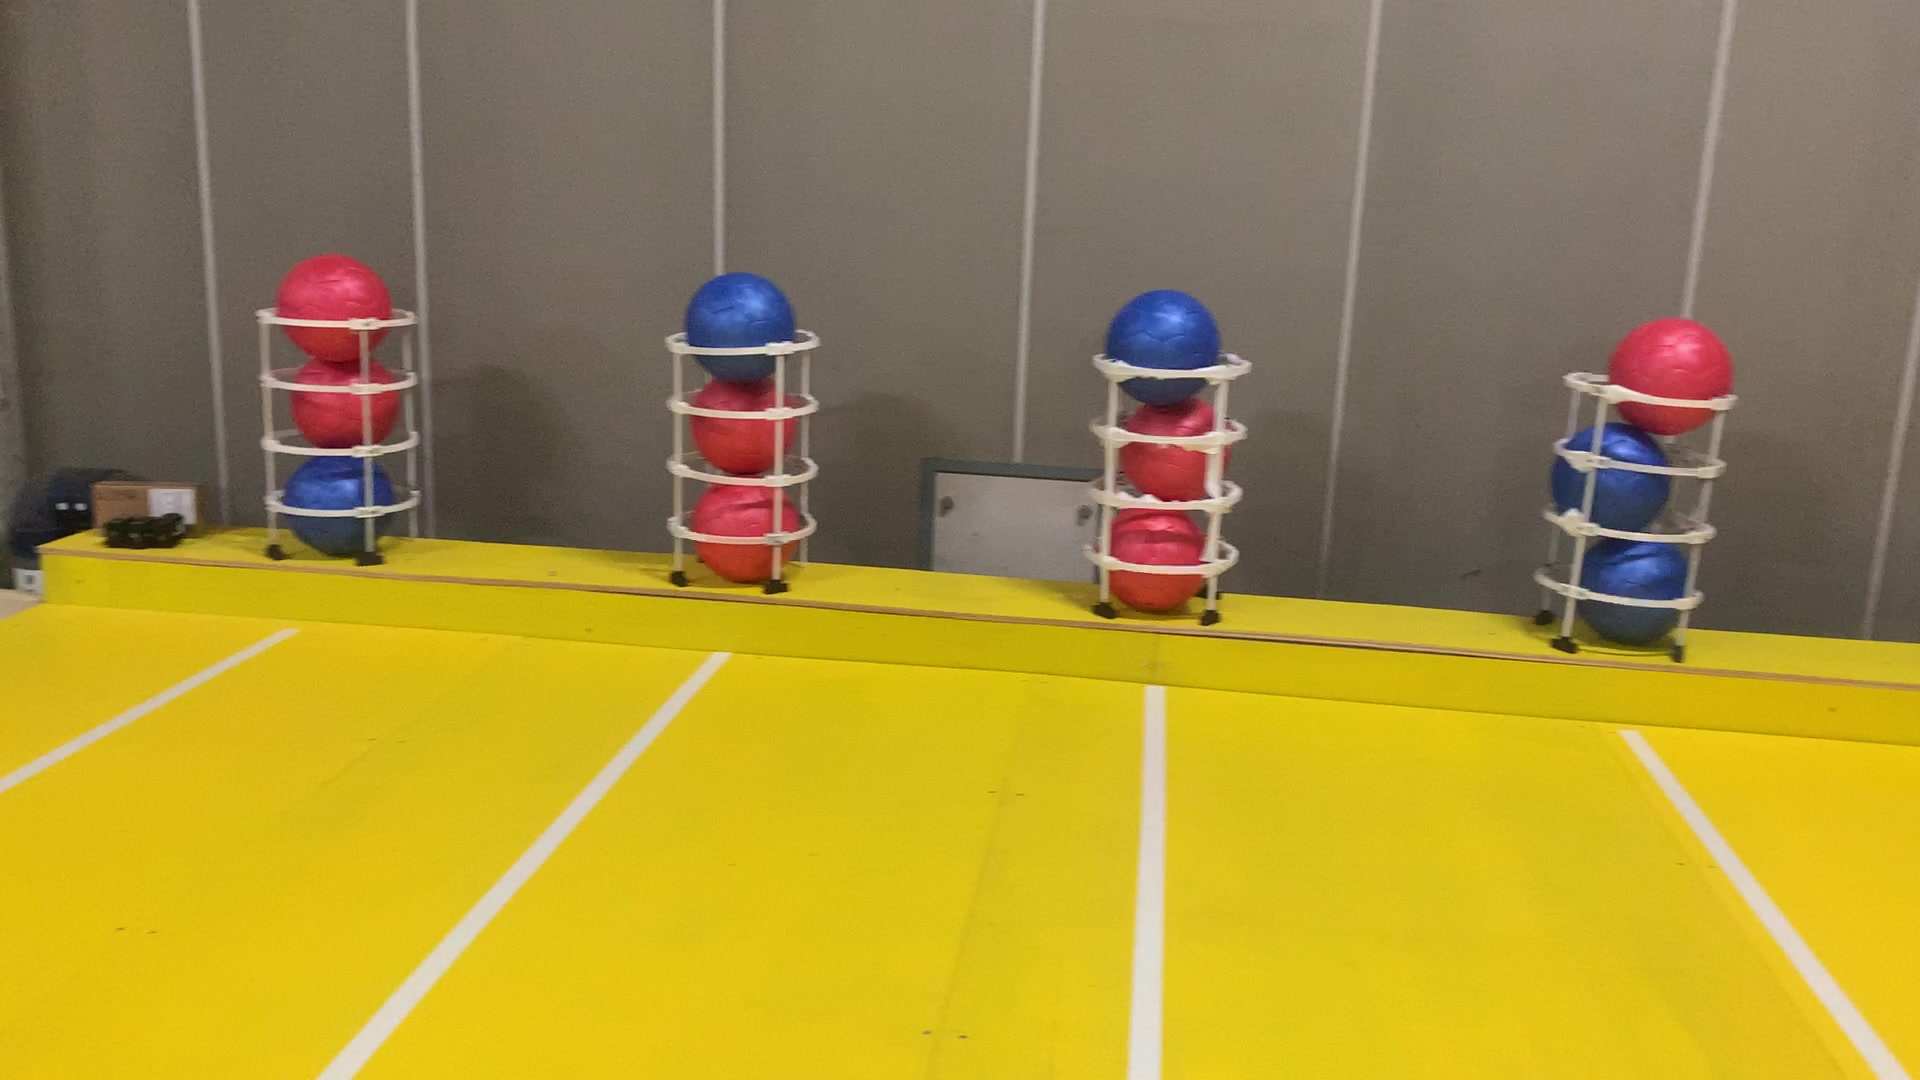blue: (1544, 414, 1668, 539), (1572, 521, 1691, 650), (1104, 280, 1217, 402), (280, 439, 398, 553), (683, 269, 799, 373)
red: (1613, 314, 1741, 439), (683, 468, 812, 592), (1124, 385, 1237, 502), (291, 345, 407, 459), (277, 257, 396, 368), (1095, 498, 1204, 615), (694, 361, 803, 476)
